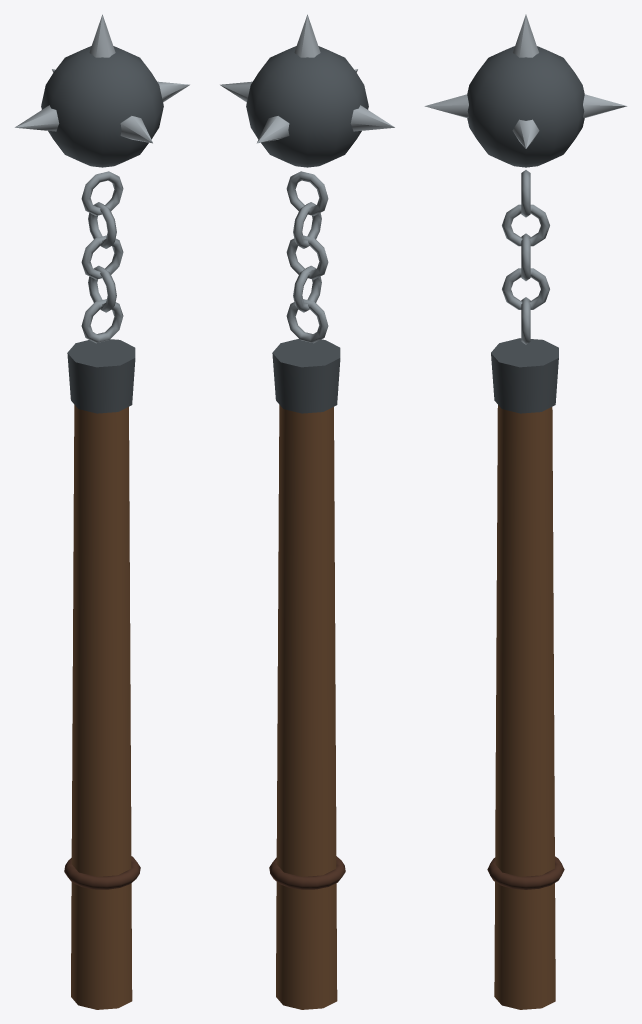
File: flail.glb
3 renders of one model, left to right at view 1: azimuth 30°, elevation 25°; view 2: azimuth 150°, elevation 25°; view 3: azimuth 270°, elevation 25°, orthographic.
Visible parts, largest first — view 1: flail-grip, flail-striker, flail-end-cap, flail-chain-link (×5), flail-striker-spike (×3), flail-grip-wrap; view 2: flail-grip, flail-striker, flail-end-cap, flail-chain-link (×5), flail-striker-spike (×3), flail-grip-wrap; view 3: flail-grip, flail-striker, flail-end-cap, flail-striker-spike (×4), flail-chain-link (×2), flail-grip-wrap.
Boxes of the visible parts, left/top/right/bottom form: flail-grip: left=71, top=405, right=132, bottom=1009; flail-striker: left=41, top=46, right=163, bottom=167; flail-end-cap: left=67, top=339, right=135, bottom=413; flail-chain-link (×5): left=81, top=171, right=123, bottom=343; flail-striker-spike (×3): left=15, top=14, right=152, bottom=143; flail-grip-wrap: left=64, top=856, right=140, bottom=889; flail-grip: left=276, top=405, right=337, bottom=1009; flail-striker: left=246, top=46, right=368, bottom=167; flail-end-cap: left=272, top=339, right=340, bottom=413; flail-chain-link (×5): left=286, top=171, right=328, bottom=343; flail-striker-spike (×3): left=257, top=14, right=394, bottom=143; flail-grip-wrap: left=269, top=856, right=345, bottom=889; flail-grip: left=494, top=405, right=555, bottom=1009; flail-striker: left=467, top=46, right=584, bottom=167; flail-end-cap: left=491, top=338, right=558, bottom=413; flail-striker-spike (×4): left=424, top=14, right=627, bottom=148; flail-chain-link (×2): left=502, top=204, right=549, bottom=309; flail-grip-wrap: left=487, top=856, right=564, bottom=889.
Bounding box in the file's own units: 0.0902 × 0.4807 × 0.0902.
